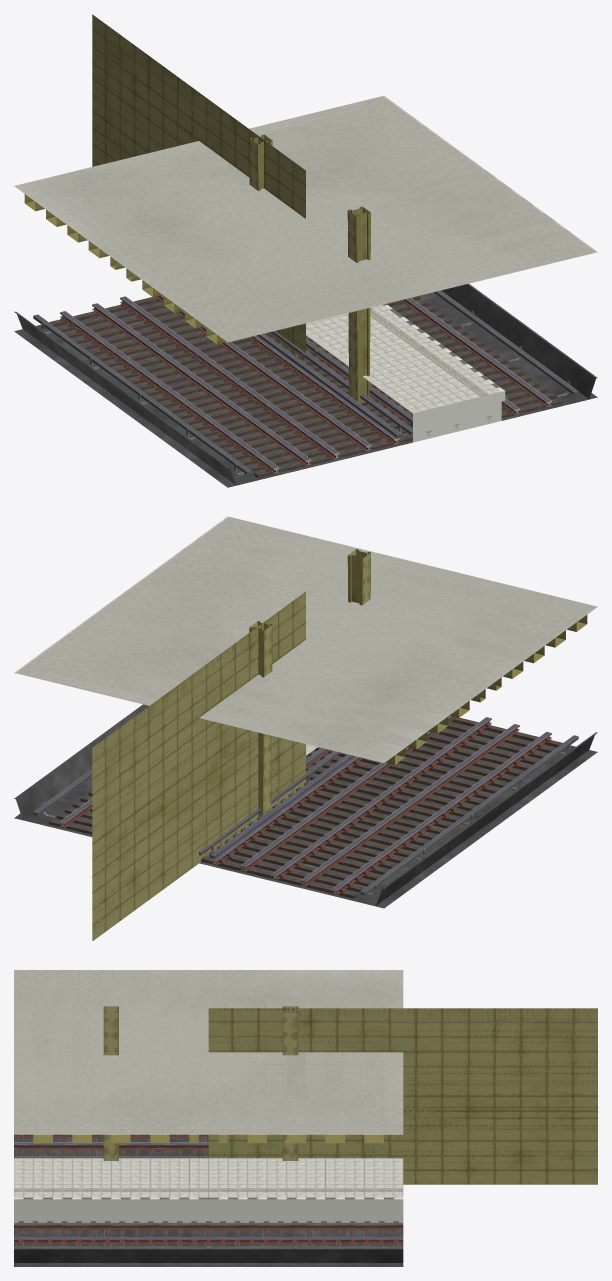
Rendered from GenericStationTextured.fbx.
3 views of the same model, one above another, from view 1: azimuth 30°, elevation 25°; view 2: azimuth 150°, elevation 25°; view 3: azimuth 270°, elevation 25° (orthographic). The views are drawn at different scales.
Parts seen in each view (by area): view 1: TopFlat20x20, DoubleRail 20x20, WallLeft20x10, DoubleRailCentered 20x20, PlatformHalf20x5, TopRibbed20x20, FlatFloor, WallRight20x10, Bottom20x20, SingleRail20x3.5, Colummn20x20, RailCover; view 2: TopFlat20x20, WallLeft20x10, WallRight20x10, TopRibbed20x20, DoubleRail 20x20, Bottom20x20, DoubleRailCentered 20x20, SingleRail20x3.5, Colummn20x20, FlatFloor, RailCover; view 3: TopFlat20x20, WallLeft20x10, WallRight20x10, PlatformHalf20x5, TopRibbed20x20, DoubleRail 20x20, Bottom20x20, FlatFloor, DoubleRailCentered 20x20, Colummn20x20.
Part boxes in pixels (bbox=[...]): TopFlat20x20: bbox=[14, 96, 597, 342]; DoubleRail 20x20: bbox=[33, 290, 578, 477]; WallLeft20x10: bbox=[92, 14, 305, 360]; DoubleRailCentered 20x20: bbox=[109, 295, 502, 461]; PlatformHalf20x5: bbox=[306, 304, 505, 442]; TopRibbed20x20: bbox=[17, 96, 596, 344]; FlatFloor: bbox=[14, 292, 597, 487]; WallRight20x10: bbox=[92, 15, 305, 360]; Bottom20x20: bbox=[14, 283, 597, 484]; SingleRail20x3.5: bbox=[235, 333, 431, 448]; Colummn20x20: bbox=[249, 134, 370, 405]; RailCover: bbox=[270, 331, 412, 434]; TopFlat20x20: bbox=[14, 516, 597, 762]; WallLeft20x10: bbox=[92, 592, 305, 940]; WallRight20x10: bbox=[92, 593, 305, 940]; TopRibbed20x20: bbox=[19, 517, 596, 764]; DoubleRail 20x20: bbox=[33, 724, 578, 898]; Bottom20x20: bbox=[14, 704, 597, 906]; DoubleRailCentered 20x20: bbox=[210, 715, 502, 883]; SingleRail20x3.5: bbox=[201, 747, 372, 868]; Colummn20x20: bbox=[249, 549, 370, 817]; FlatFloor: bbox=[14, 722, 597, 908]; RailCover: bbox=[199, 751, 341, 855]; TopFlat20x20: bbox=[14, 970, 403, 1134]; WallLeft20x10: bbox=[208, 1008, 597, 1184]; WallRight20x10: bbox=[208, 1008, 597, 1184]; PlatformHalf20x5: bbox=[14, 1158, 403, 1222]; TopRibbed20x20: bbox=[14, 970, 403, 1143]; DoubleRail 20x20: bbox=[14, 1134, 403, 1248]; Bottom20x20: bbox=[14, 1137, 403, 1262]; FlatFloor: bbox=[14, 1137, 403, 1266]; DoubleRailCentered 20x20: bbox=[14, 1141, 398, 1222]; Colummn20x20: bbox=[103, 1006, 298, 1160].
Size of the model in its own units: 2000 by 1009 by 3000.
